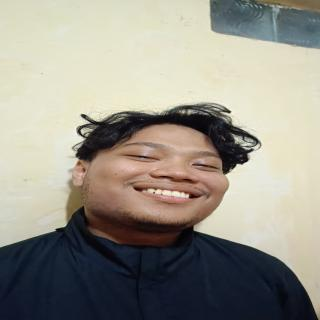Senang: (75, 116, 250, 232)
